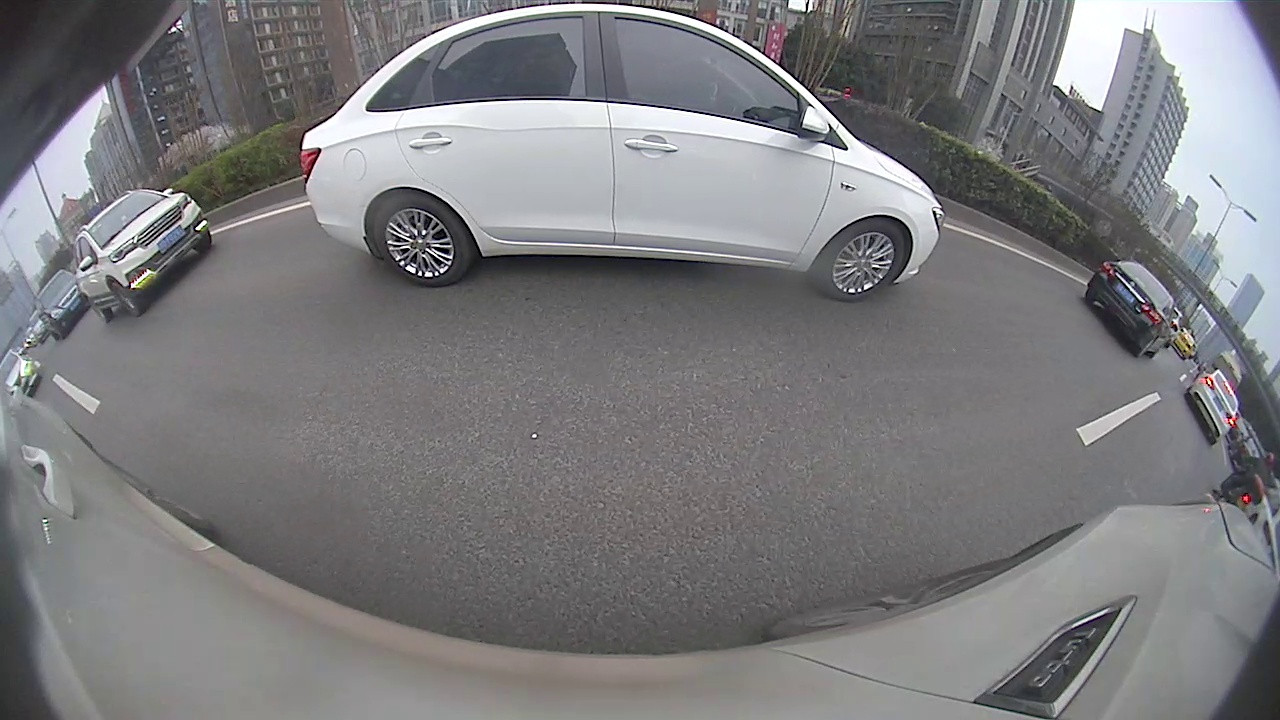bus: (944, 144, 1239, 341), (223, 173, 411, 249), (792, 145, 879, 186)
car: (13, 250, 217, 404), (798, 161, 903, 216), (692, 155, 739, 192), (747, 160, 789, 189), (617, 163, 646, 185)
front: (969, 208, 991, 236), (801, 183, 811, 201)
rear: (1076, 244, 1108, 287), (833, 186, 846, 208)
